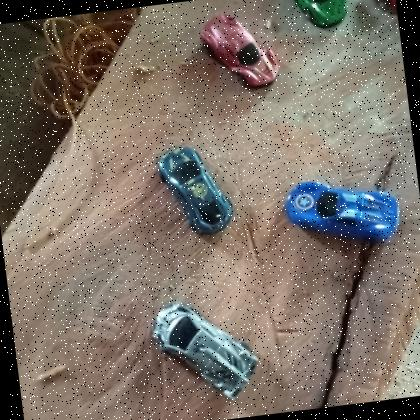Car: (144, 291, 266, 411), (280, 169, 406, 253), (153, 138, 237, 241), (195, 5, 282, 94)
